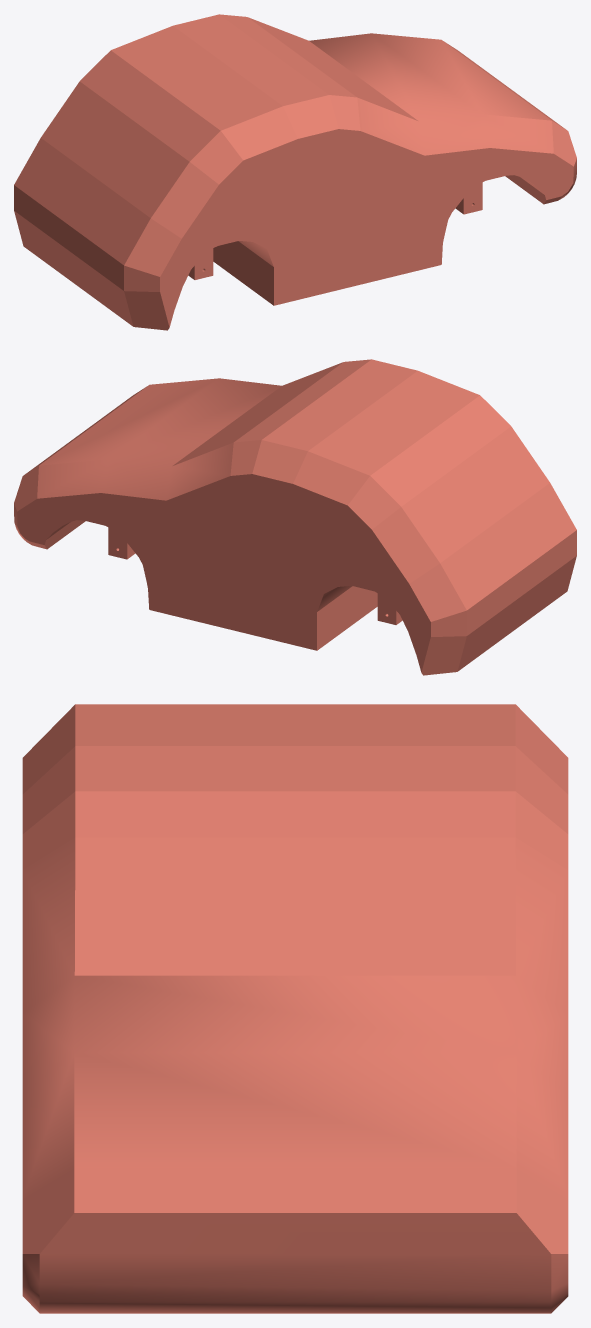
File: chassis_1.dae
3 views of the same model, one above another, from view 1: azimuth 30°, elevation 25°; view 2: azimuth 150°, elevation 25°; view 3: azimuth 270°, elevation 25° (orthographic). The views are drawn at different scales.
Visible parts, largest first — view 1: body10_visual; view 2: body10_visual; view 3: body10_visual.
Boxes of the visible parts, x1,y1,x2,y2 form: body10_visual: [14, 14, 576, 330]; body10_visual: [14, 359, 576, 675]; body10_visual: [22, 704, 568, 1313].
Size of the model in its own units: 59.4 by 31.62 by 23.59.
